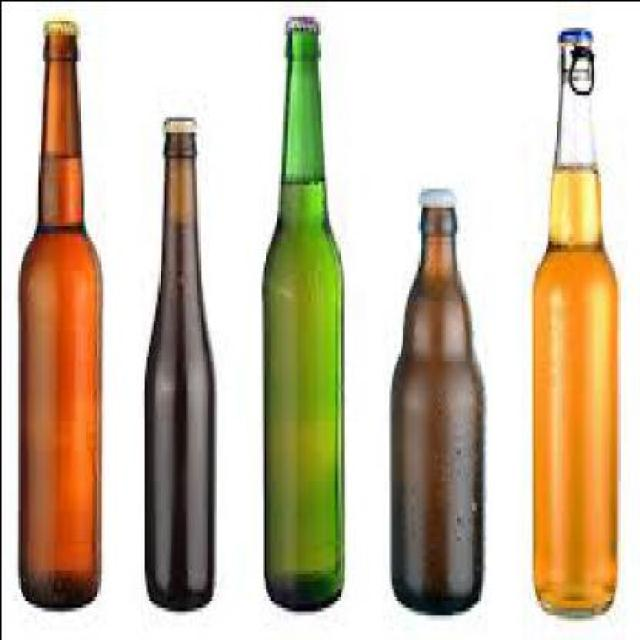GLASS: (528, 38, 614, 610), (14, 31, 98, 606), (261, 22, 341, 607), (388, 206, 484, 614), (138, 127, 211, 607)
METAL: (414, 183, 452, 199), (161, 108, 193, 124), (40, 15, 72, 30), (282, 11, 312, 23), (555, 22, 588, 30)
